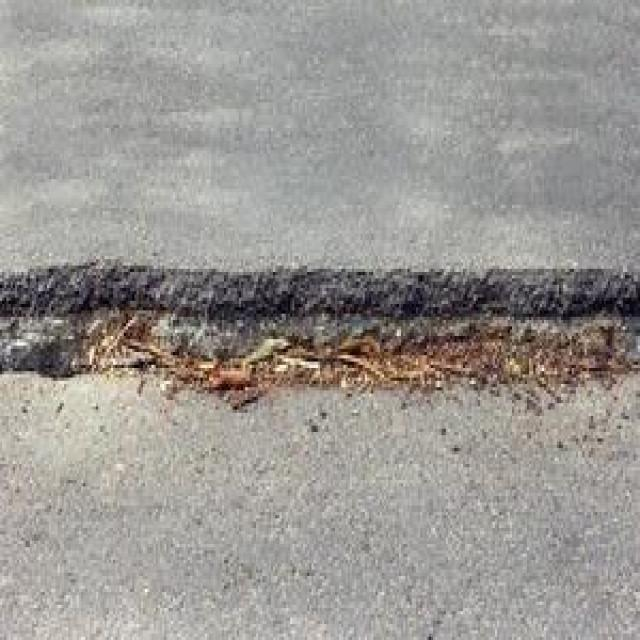road collapse: (8, 155, 640, 635)
